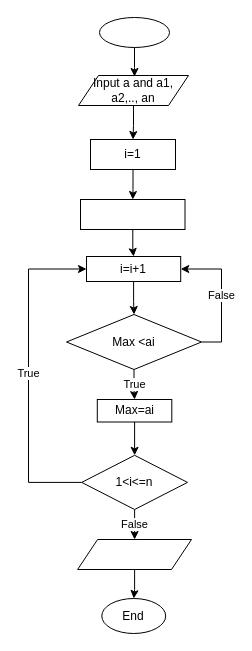
Image size: 252x651. Some labels were removed from this diagram. Each missing label, with the centre of its shape:
Begin: (x=134, y=32)
Display max: (x=134, y=554)
Max=a1: (x=132, y=214)
